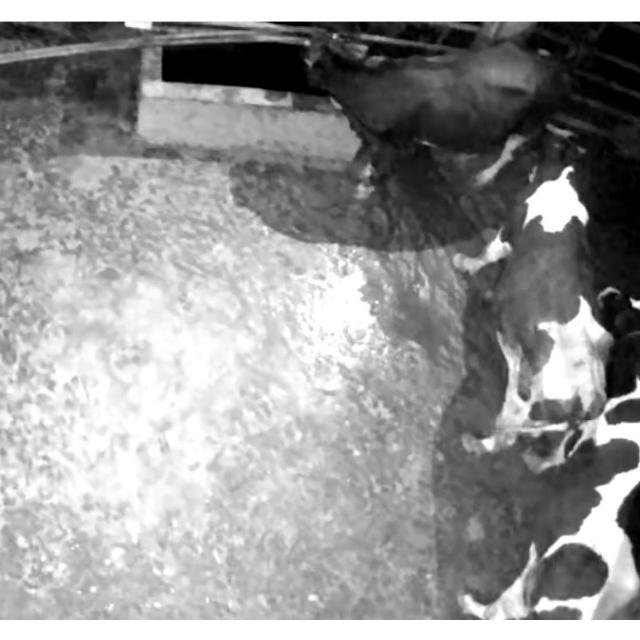drink: (278, 27, 426, 127)
